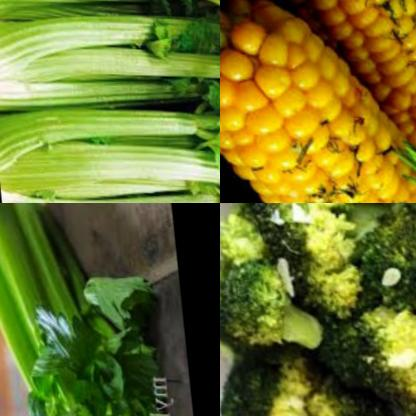broccoli: (220, 203, 416, 416)
celery: (0, 0, 220, 203), (0, 203, 182, 416)
corn: (220, 0, 416, 203), (261, 0, 416, 203)
